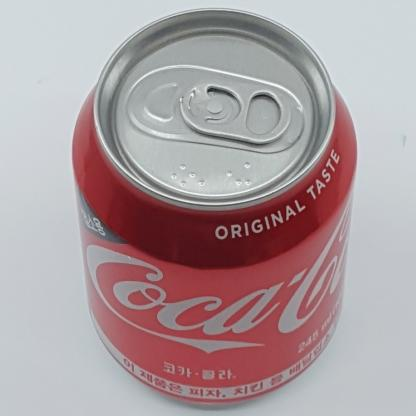-----------------245ml: (72, 7, 357, 404)
